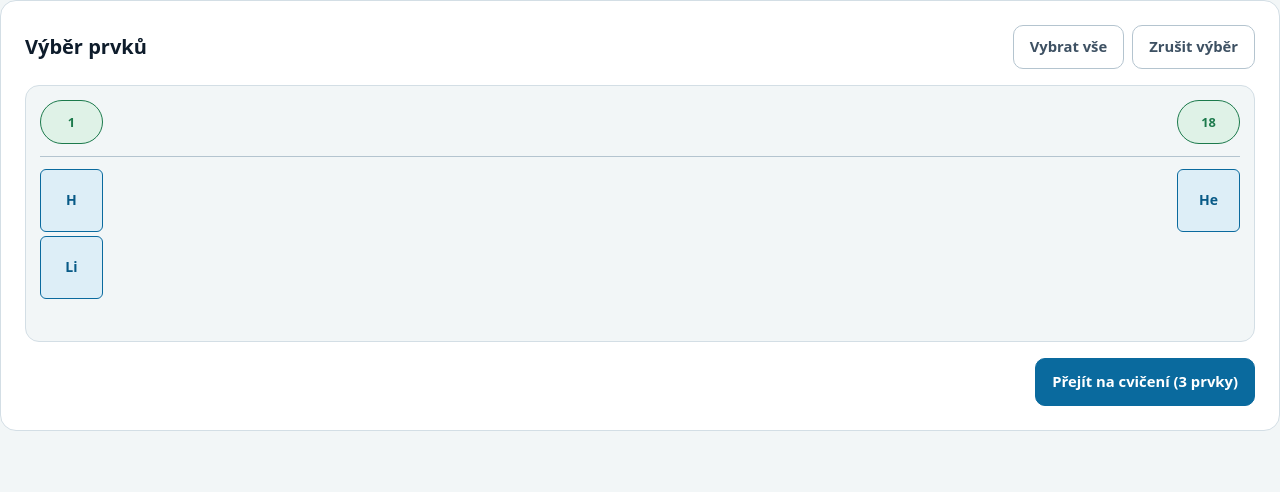
PeriodicTableNamePractice selection › disables the exercise for an empty selection and explains why
Click the button "Zrušit výběr" at point(1194, 47), box x1=1132 y1=25 x2=1255 y2=69
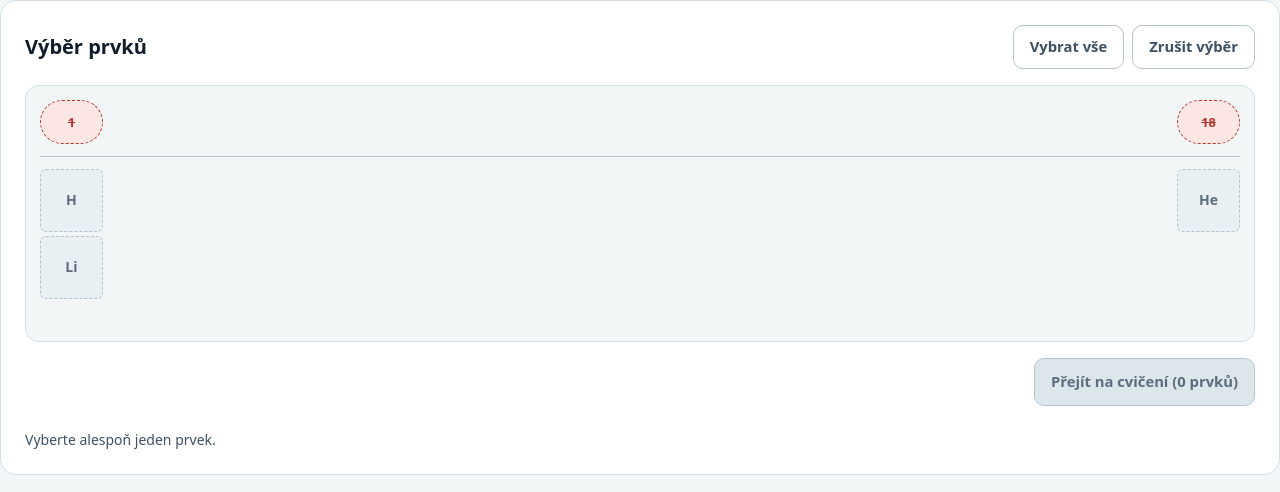
Expected: the button "Přejít na cvičení (0 prvků)" is disabled, x1=1034 y1=358 x2=1255 y2=406
Expected: the button "Přejít na cvičení (0 prvků)" is shown, x1=1034 y1=358 x2=1255 y2=406
Expected: the text "Vyberte alespoň jeden prvek." is shown, x1=25 y1=430 x2=216 y2=449
